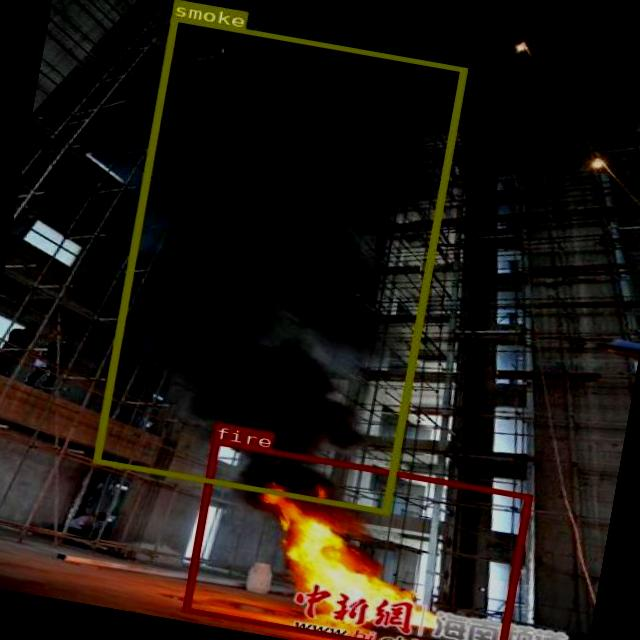fire: (180, 437, 530, 640)
smoke: (92, 15, 465, 513)
